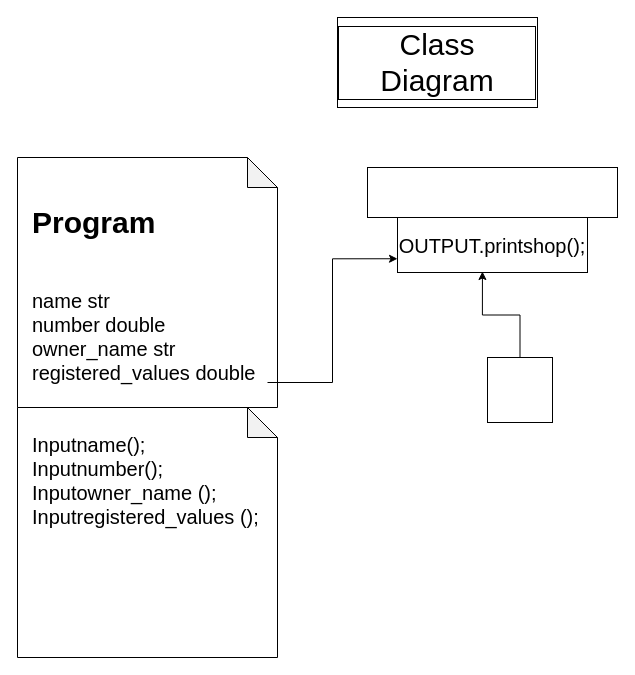
The diagram is 635 pixels wide and 675 high, and some of its shapes have lost their labels. The shapes that lost their labels are listed below. From the top down, each one's centre as x and y in pixels, then its label:
At pixel 492 192: "OUTPUT".
At pixel 519 389: "Store".
